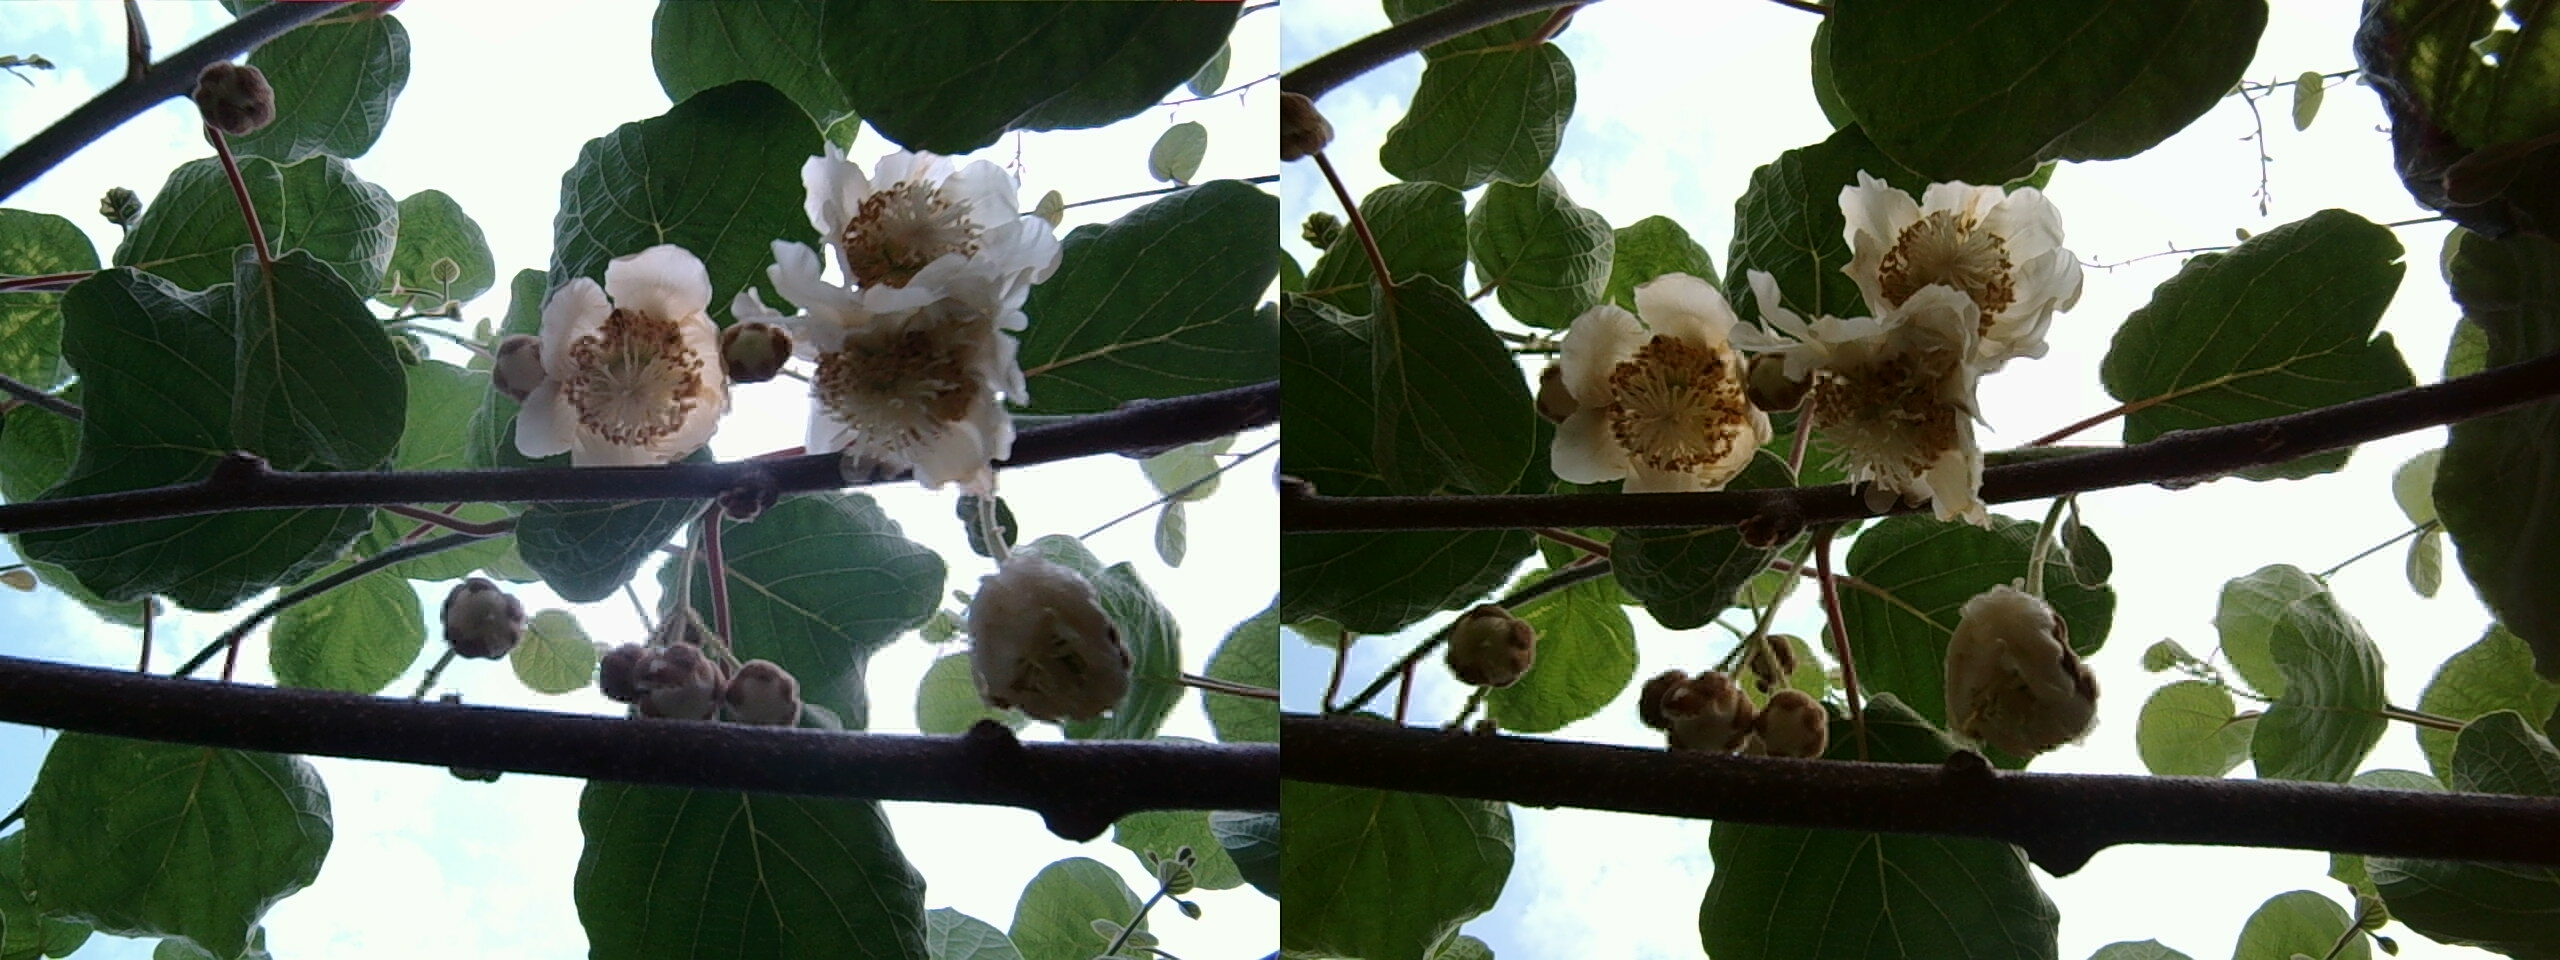flower: (771, 248, 1037, 491), (491, 250, 746, 469), (1531, 273, 1771, 495), (1757, 282, 1998, 501), (1847, 168, 2083, 353), (798, 139, 1042, 304), (967, 539, 1148, 722), (1944, 581, 2100, 751)
